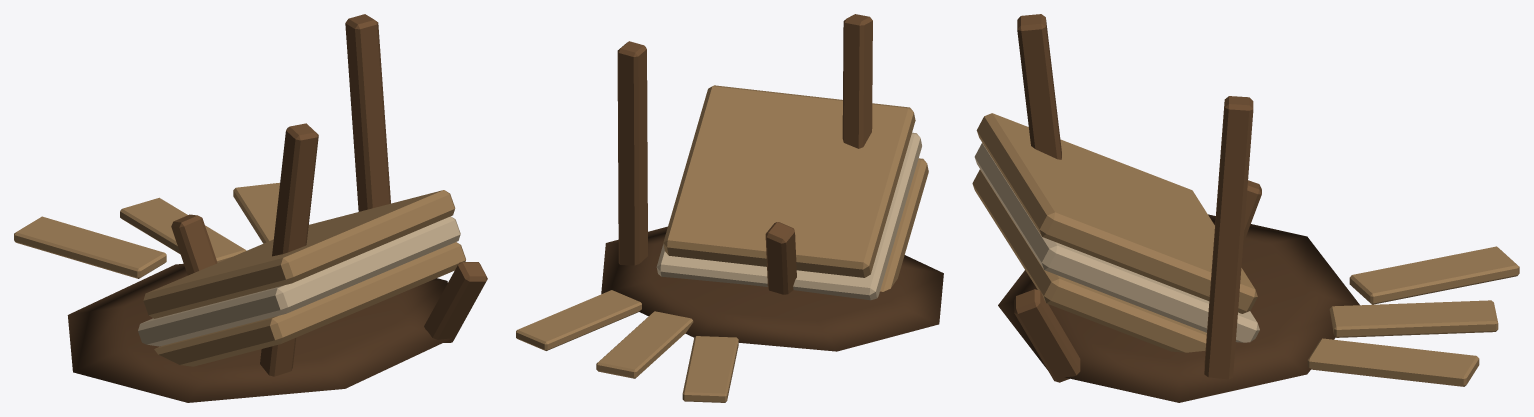
Rendered from slurry_chute_broken.fbx.
3 views of the same model, side by side, from view 1: azimuth 30°, elevation 25°; view 2: azimuth 150°, elevation 25°; view 3: azimuth 270°, elevation 25° (orthographic). The views are drawn at different scales.
Parts seen in each view (by area): view 1: Prop; view 2: Prop; view 3: Prop.
Part boxes in pixels (x1,y1,x2,y2): Prop: (14, 14, 487, 402); Prop: (516, 14, 943, 402); Prop: (972, 14, 1519, 402).
Bounding box in the file's own units: 1.12 × 1.33 × 0.7962.
